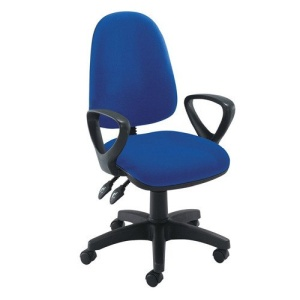chair: (80, 11, 235, 288)
